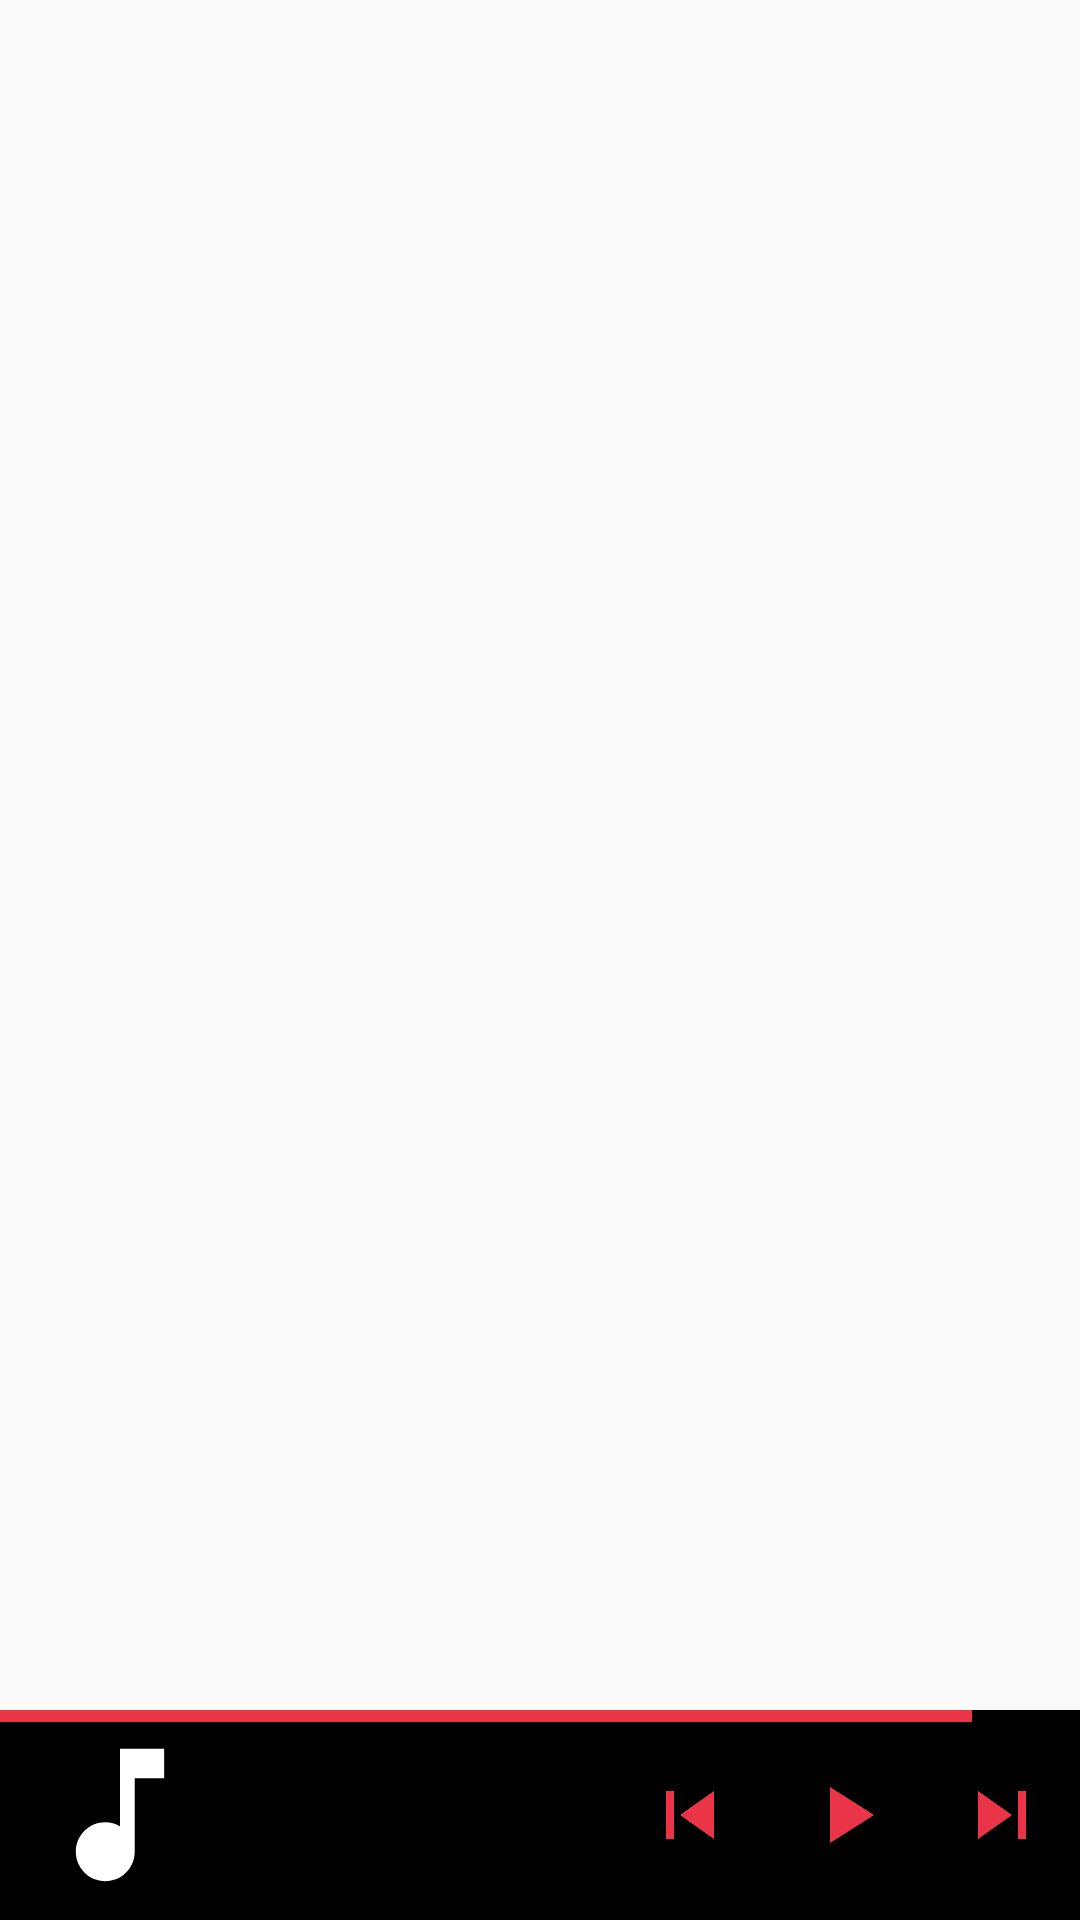

Point at icon controls on the screen. Image size 1080w x 1920h, points as (x,y).
Album Art: (120,1815)
next: (1002,1815)
play arrow: (852,1815)
previous: (690,1815)
